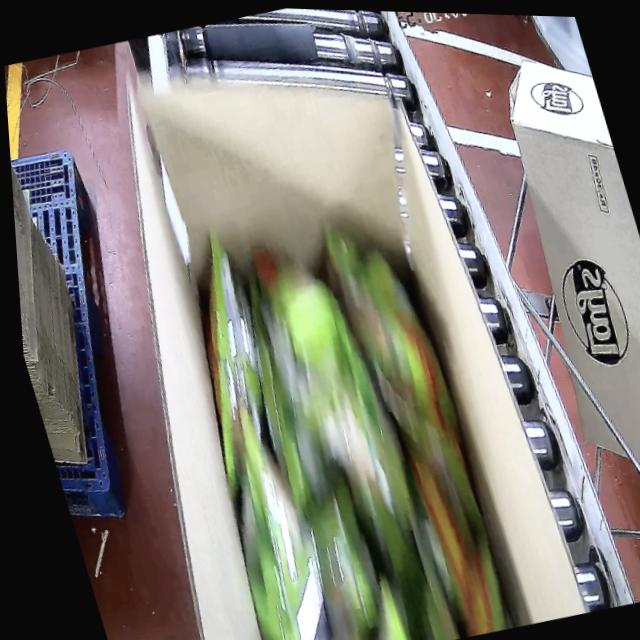YOGURT_HERB: (140, 186, 522, 640)
